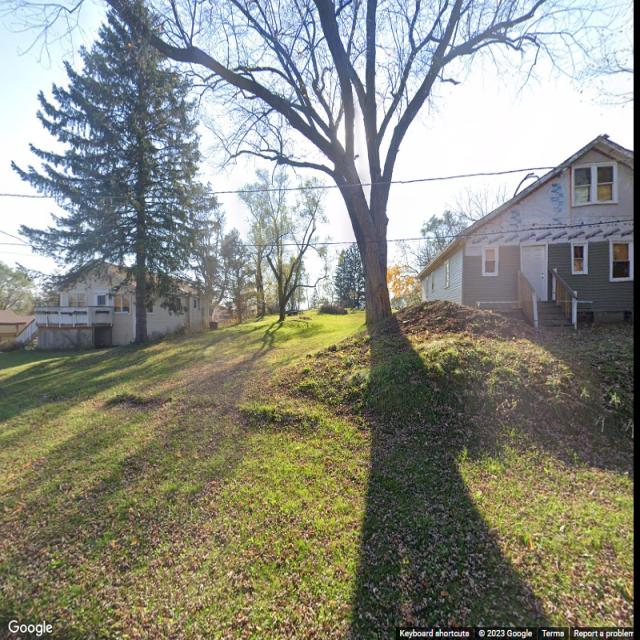House: (424, 134, 634, 326), (14, 258, 206, 352)
